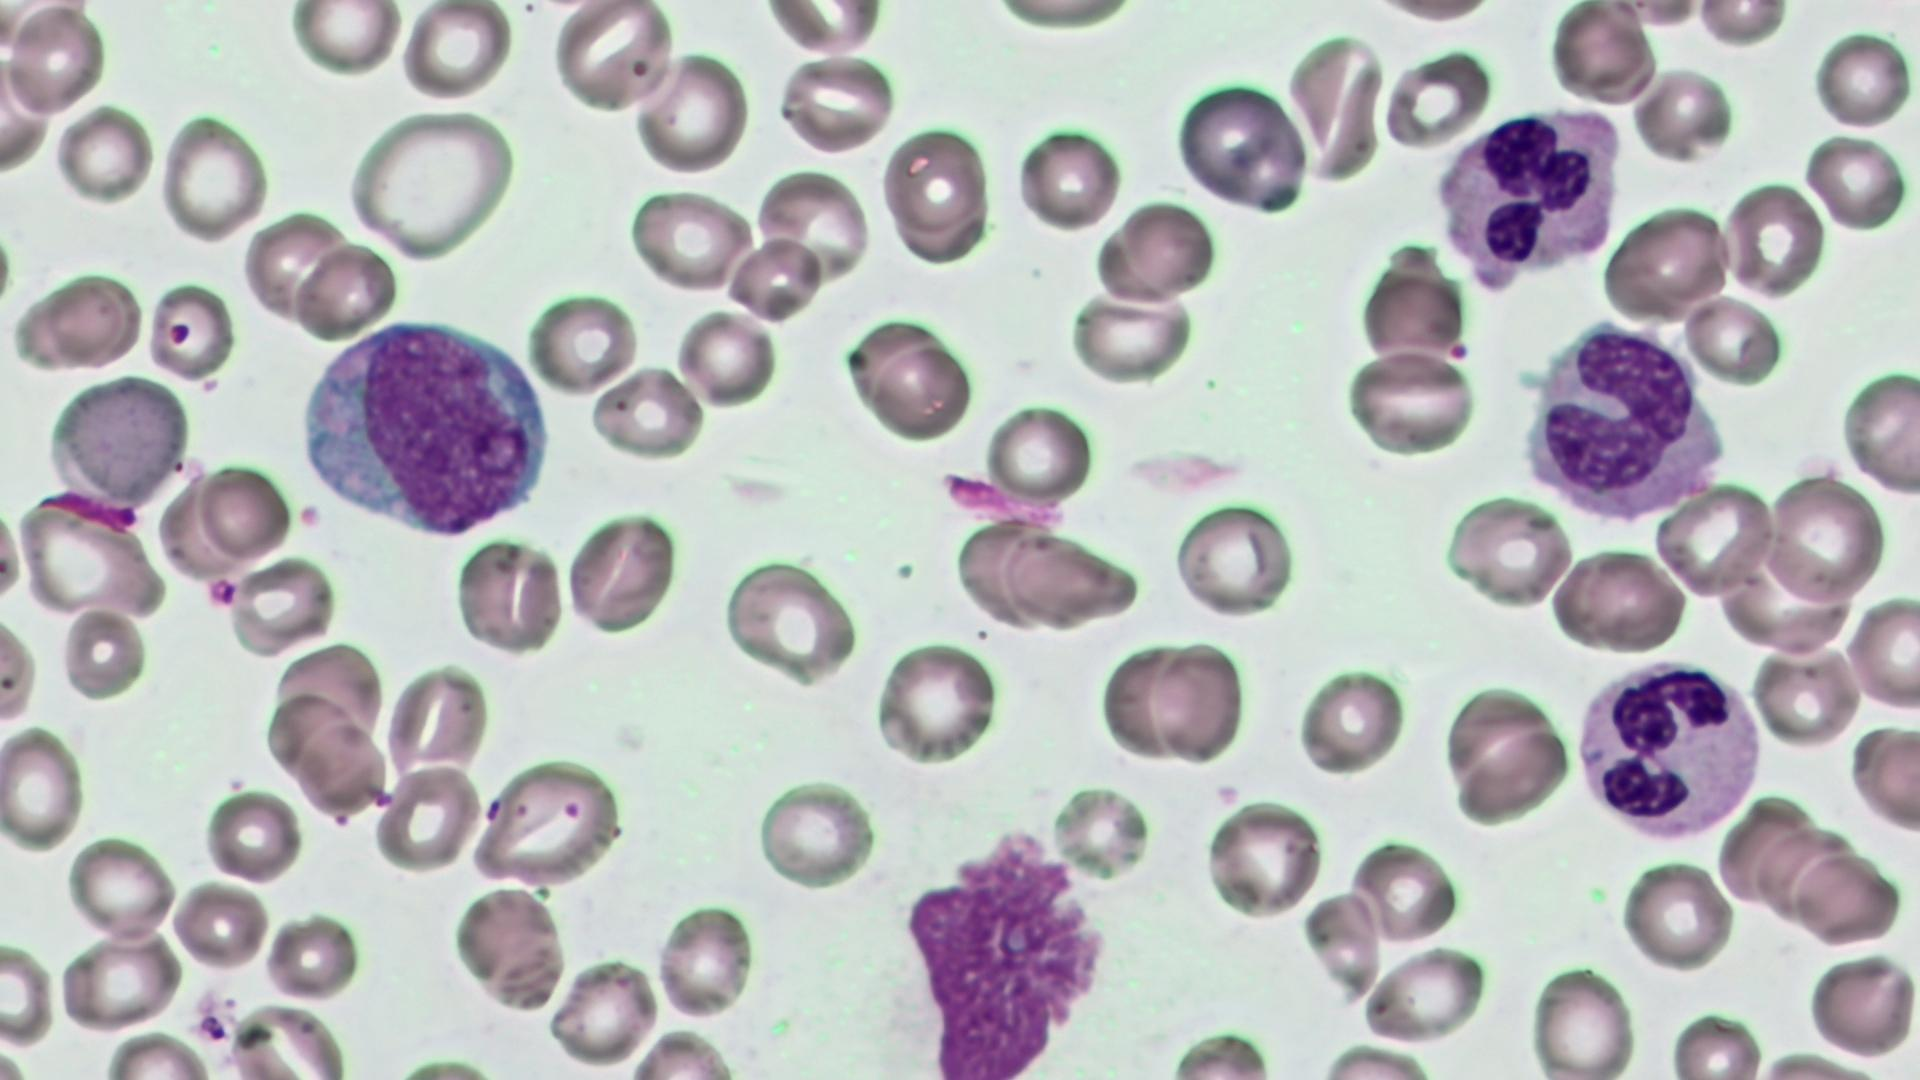RBC: (347, 103, 520, 260), (468, 760, 621, 888), (1174, 75, 1308, 216), (48, 372, 192, 503), (13, 497, 165, 617), (722, 558, 859, 687), (875, 637, 1000, 766), (1766, 472, 1888, 603), (1288, 28, 1387, 189), (1551, 544, 1689, 655), (634, 48, 751, 178), (1605, 202, 1731, 322), (157, 108, 268, 244), (1445, 493, 1575, 609), (1203, 795, 1322, 921), (549, 0, 674, 119), (451, 884, 567, 1012), (880, 122, 990, 256), (1339, 349, 1478, 455), (565, 508, 681, 635), (1172, 500, 1294, 619), (754, 161, 872, 283), (1654, 483, 1774, 602), (755, 777, 877, 892), (382, 660, 492, 784), (626, 186, 750, 295), (1005, 526, 1137, 628), (1620, 856, 1734, 974), (1359, 944, 1490, 1046), (1294, 662, 1408, 778), (454, 533, 560, 656), (59, 928, 183, 1032), (1722, 176, 1824, 302), (1095, 197, 1218, 301), (1528, 960, 1636, 1077), (23, 268, 146, 370), (1802, 950, 1916, 1060), (374, 759, 481, 876), (1358, 255, 1468, 368), (1013, 122, 1123, 235), (4, 1, 109, 119), (776, 51, 893, 156), (654, 902, 756, 1022), (527, 289, 639, 398), (1351, 837, 1462, 946), (1100, 639, 1198, 762), (1454, 722, 1569, 826), (1150, 638, 1245, 763), (1066, 293, 1194, 384), (67, 833, 175, 940), (587, 362, 703, 461), (548, 955, 653, 1064), (400, 1, 512, 103), (982, 402, 1094, 504), (241, 212, 346, 320), (1382, 46, 1490, 151), (1752, 642, 1860, 746), (0, 724, 87, 853), (54, 103, 156, 210), (866, 340, 975, 440), (1802, 132, 1910, 232), (1548, 2, 1653, 104), (1792, 848, 1900, 946), (228, 555, 336, 653), (673, 308, 780, 406), (1809, 28, 1911, 130), (295, 241, 398, 342), (1840, 365, 1918, 496), (169, 876, 271, 975), (1629, 65, 1734, 160), (202, 784, 303, 882), (1682, 292, 1786, 386), (286, 0, 404, 79), (146, 279, 235, 383), (198, 459, 290, 557), (724, 235, 824, 324), (264, 687, 358, 780), (298, 718, 385, 818), (59, 604, 147, 702), (264, 911, 358, 1001), (1846, 595, 1918, 711), (1851, 725, 1920, 833), (0, 36, 52, 176), (1665, 1010, 1764, 1078), (760, 1, 884, 53), (96, 1026, 215, 1078), (0, 938, 55, 1048), (0, 607, 41, 733), (1692, 0, 1791, 46), (1370, 0, 1495, 27)
WBC: (292, 310, 556, 548), (897, 828, 1120, 1071), (1514, 316, 1730, 528), (1427, 101, 1628, 296), (1566, 656, 1767, 844)
